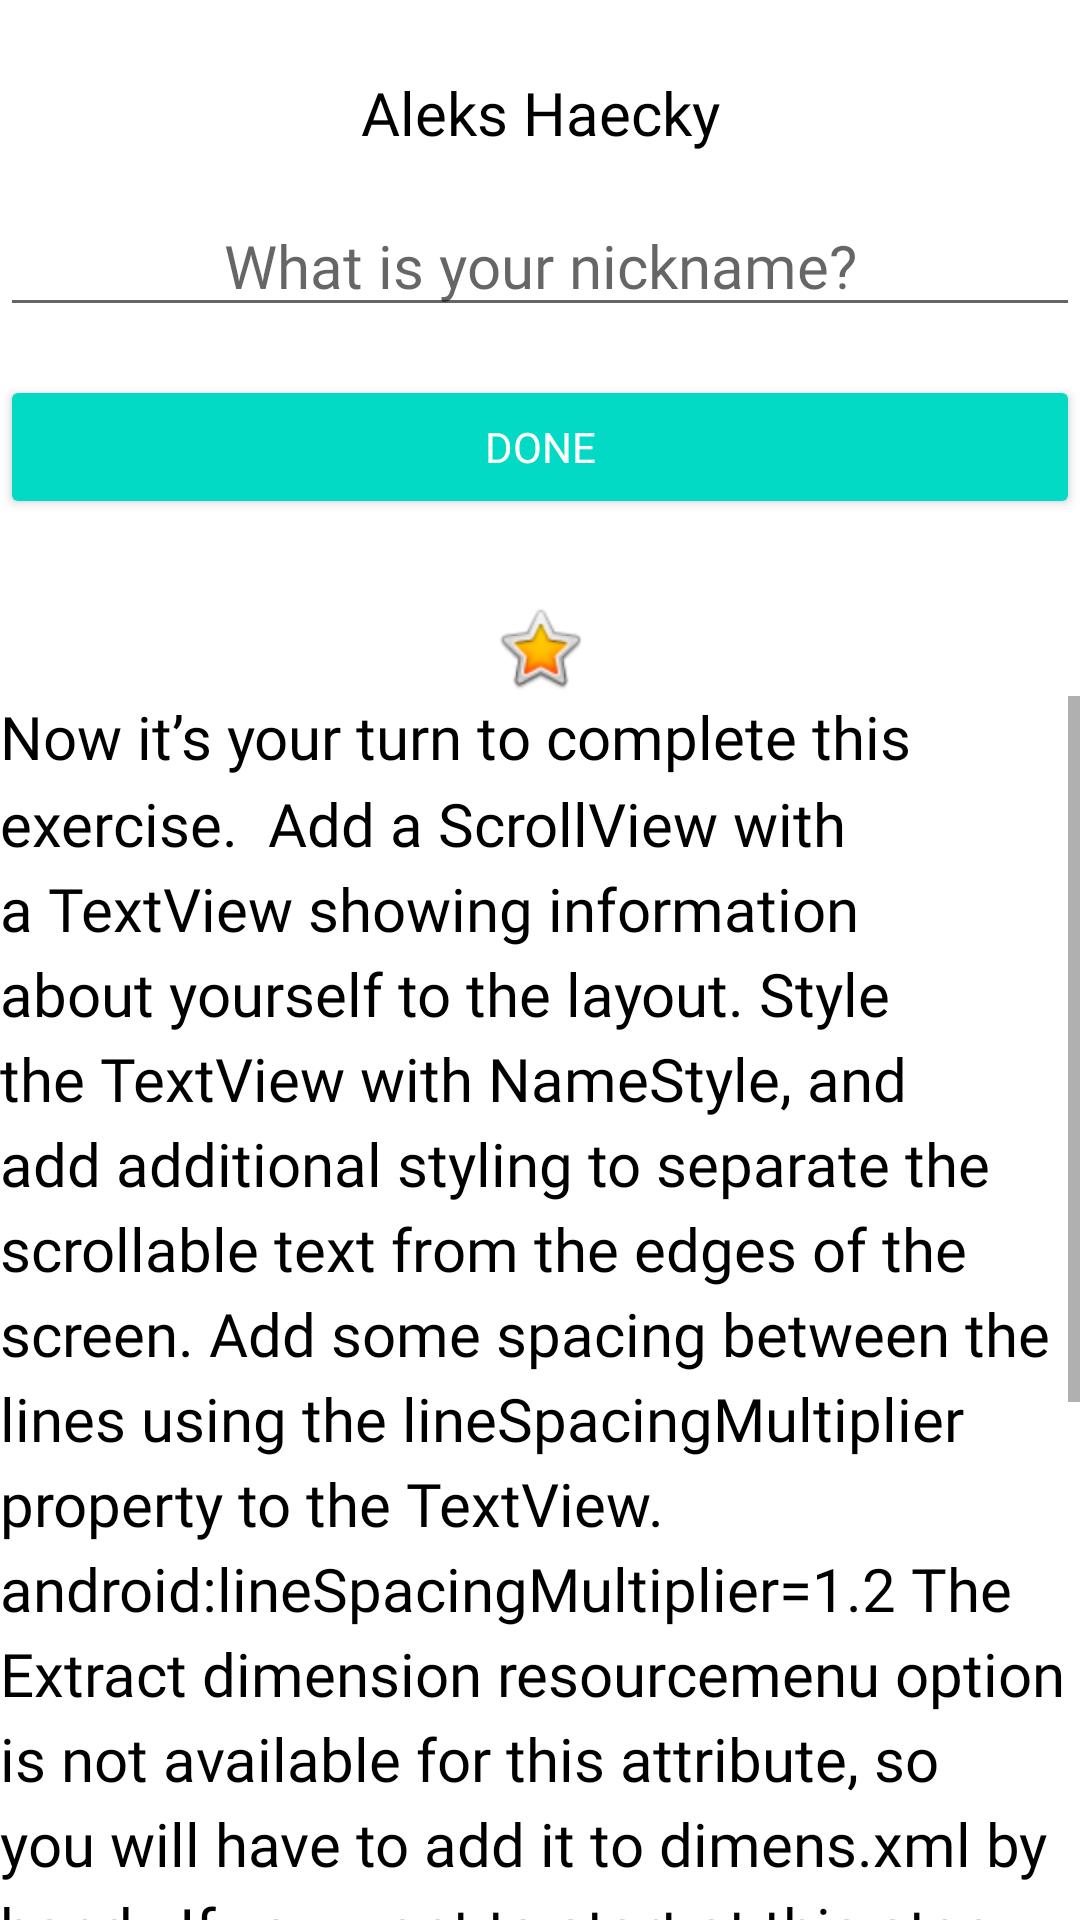

Screen size 1080×1920. Icon name, then its box in pixels as Rect(x1, y1, x2, y2):
Yellow star: Rect(501, 610, 581, 688)
